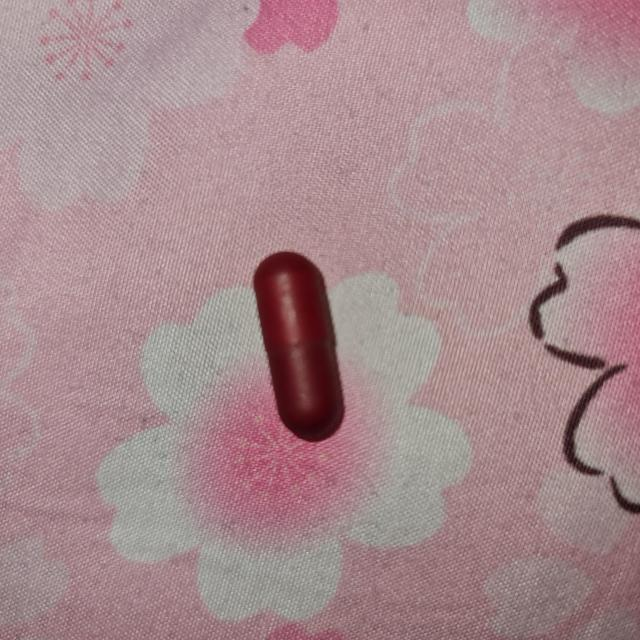pill: (250, 250, 346, 442)
